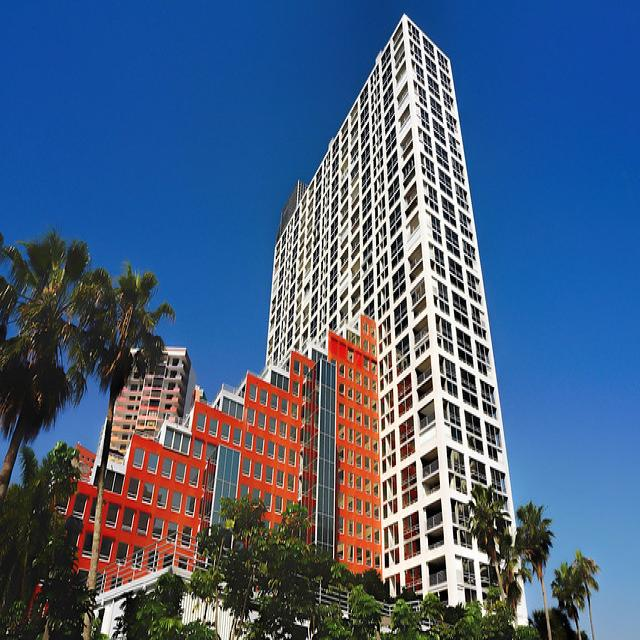building: (248, 11, 534, 631)
